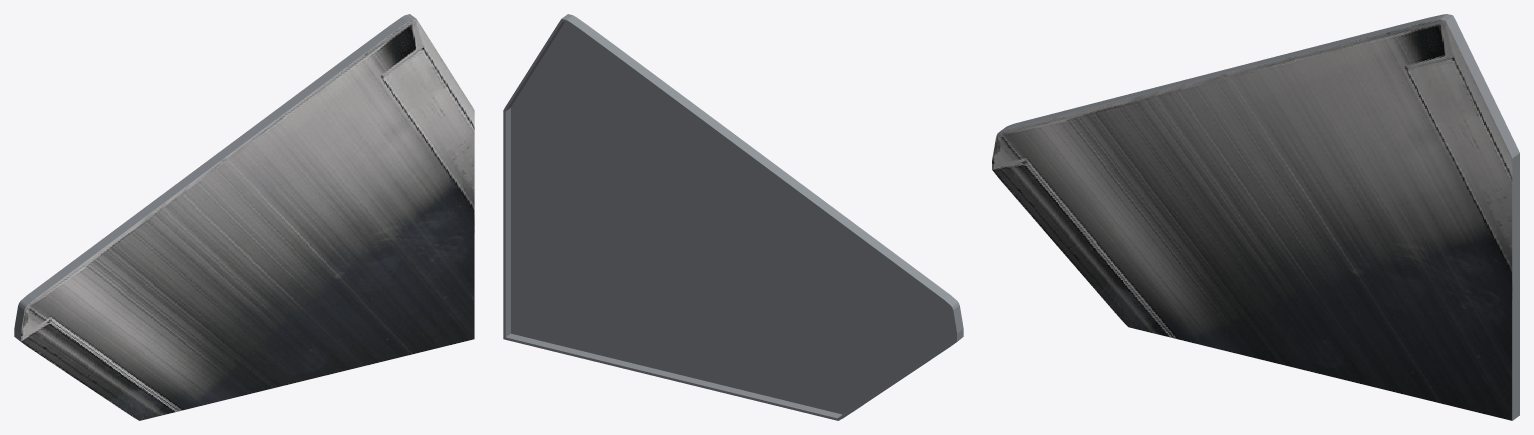
3 views of the same model, side by side, from view 1: azimuth 30°, elevation 25°; view 2: azimuth 150°, elevation 25°; view 3: azimuth 330°, elevation 25° (orthographic). The views are drawn at different scales.
Parts seen in each view (by area): view 1: cat_a6c4ec5848f685e9; view 2: cat_a6c4ec5848f685e9; view 3: cat_a6c4ec5848f685e9.
Part boxes in pixels (<box>): cat_a6c4ec5848f685e9: <box>14,14,474,420</box>; cat_a6c4ec5848f685e9: <box>503,14,963,420</box>; cat_a6c4ec5848f685e9: <box>992,14,1519,420</box>.
Size of the model in its own units: 0.6 by 0.015 by 0.4228.
Materials: 2 (1 with a texture image).
